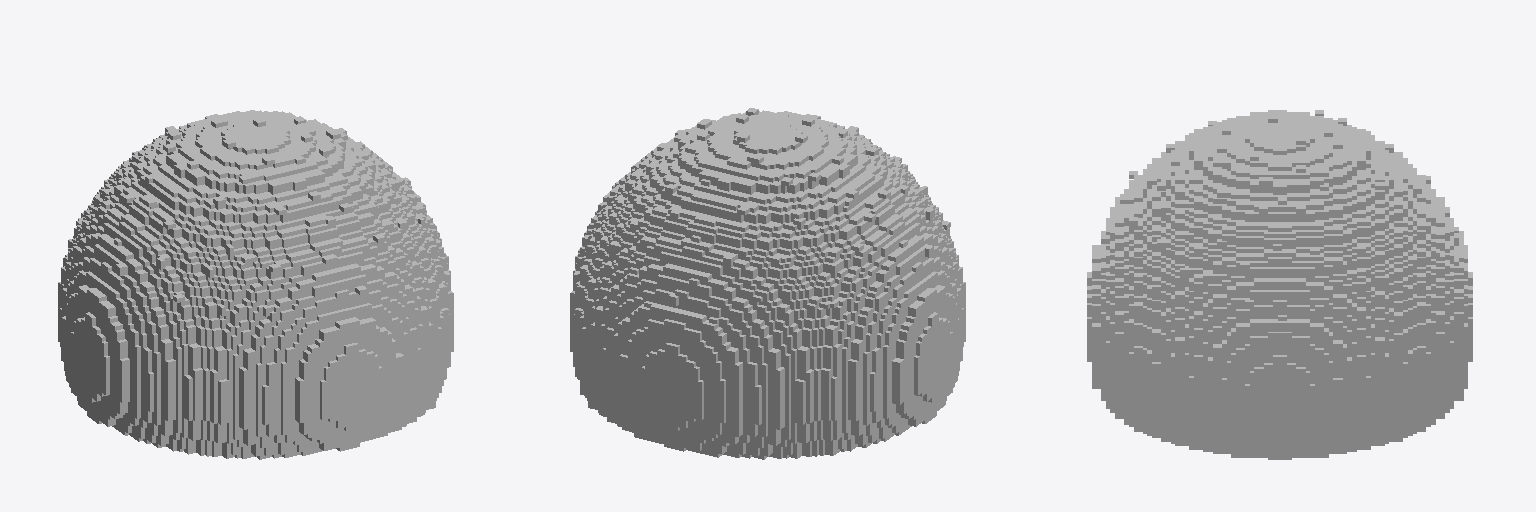
The model's file is Pan.obj.
3 renders of one model, left to right at view 1: azimuth 30°, elevation 25°; view 2: azimuth 150°, elevation 25°; view 3: azimuth 270°, elevation 25°, orthographic.
Visible parts, largest first — view 1: object 1; view 2: object 1; view 3: object 1.
Part boxes in pixels (left/top/right/bottom): object 1: left=58, top=110, right=453, bottom=459; object 1: left=570, top=108, right=965, bottom=459; object 1: left=1087, top=110, right=1472, bottom=459.
Size of the model in its own units: 8.3 by 5.9 by 8.3.